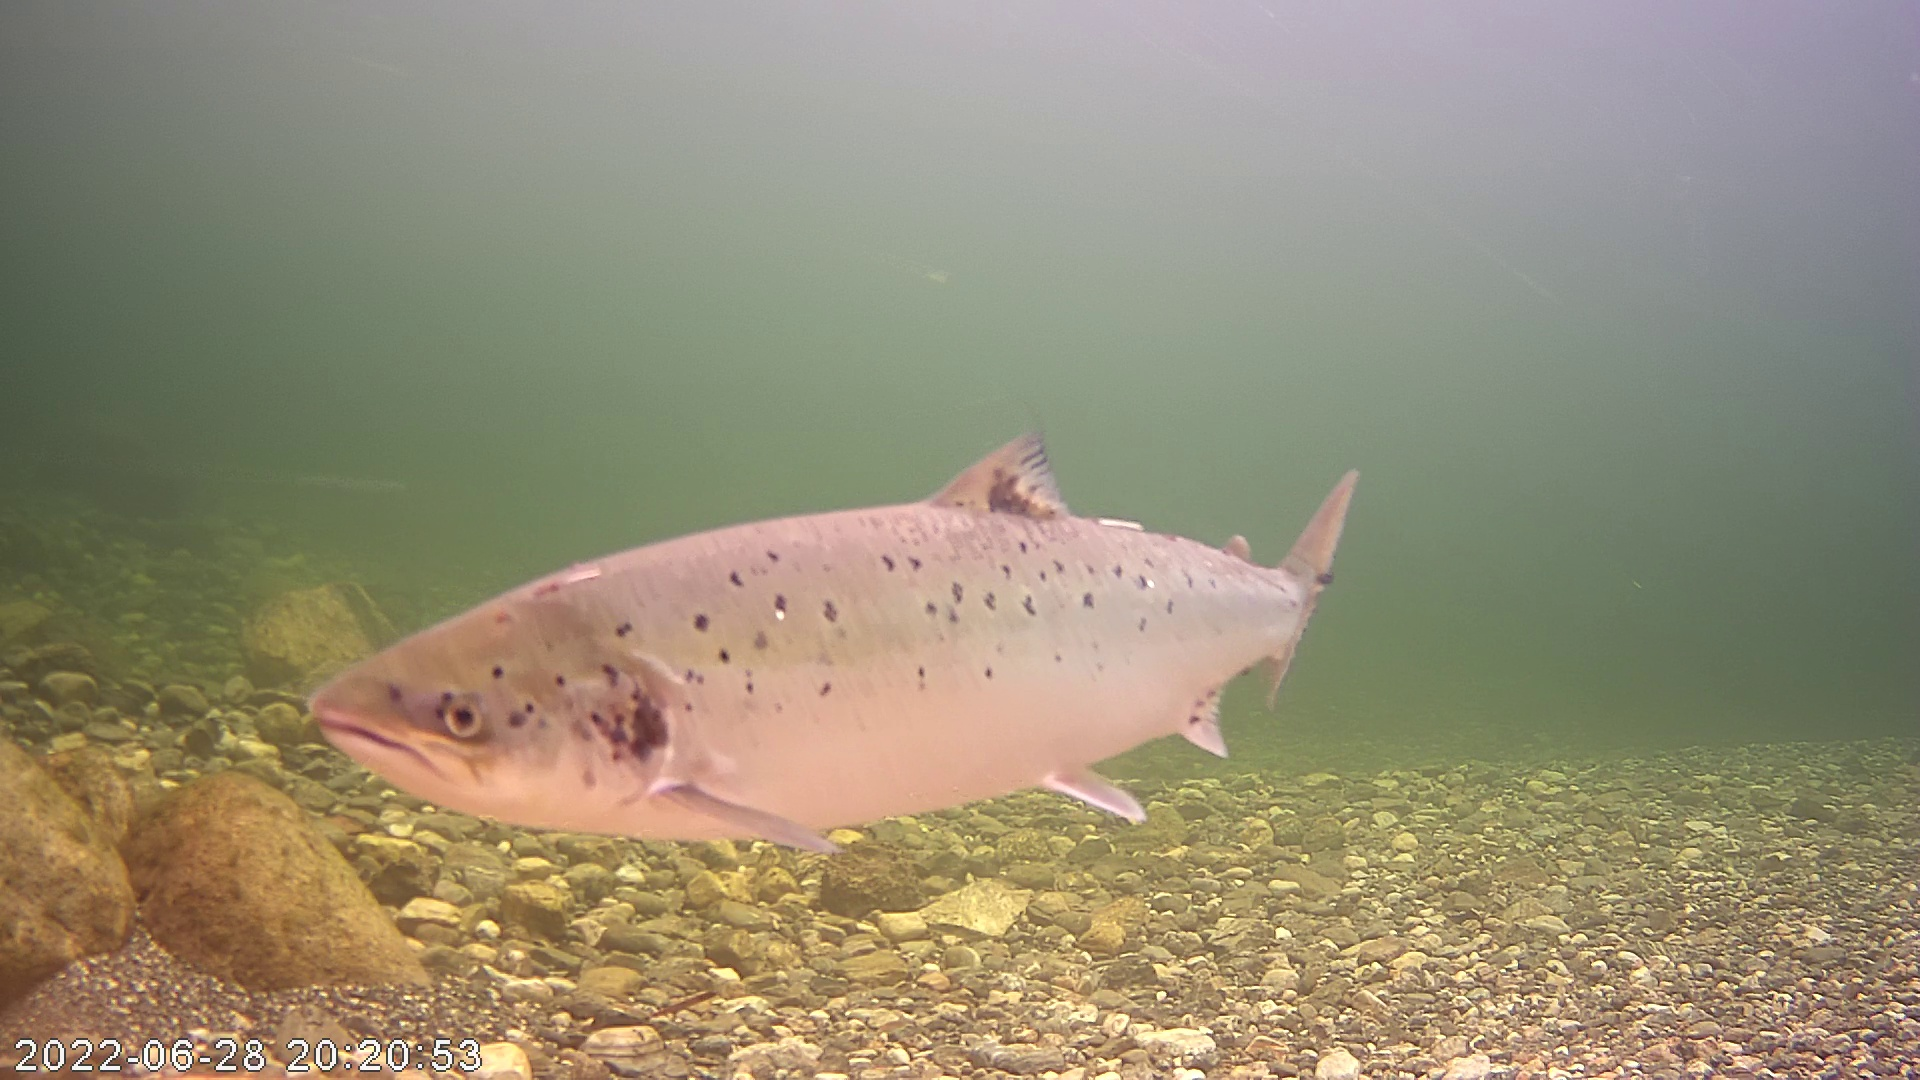salmon: (285, 365, 1360, 855)
